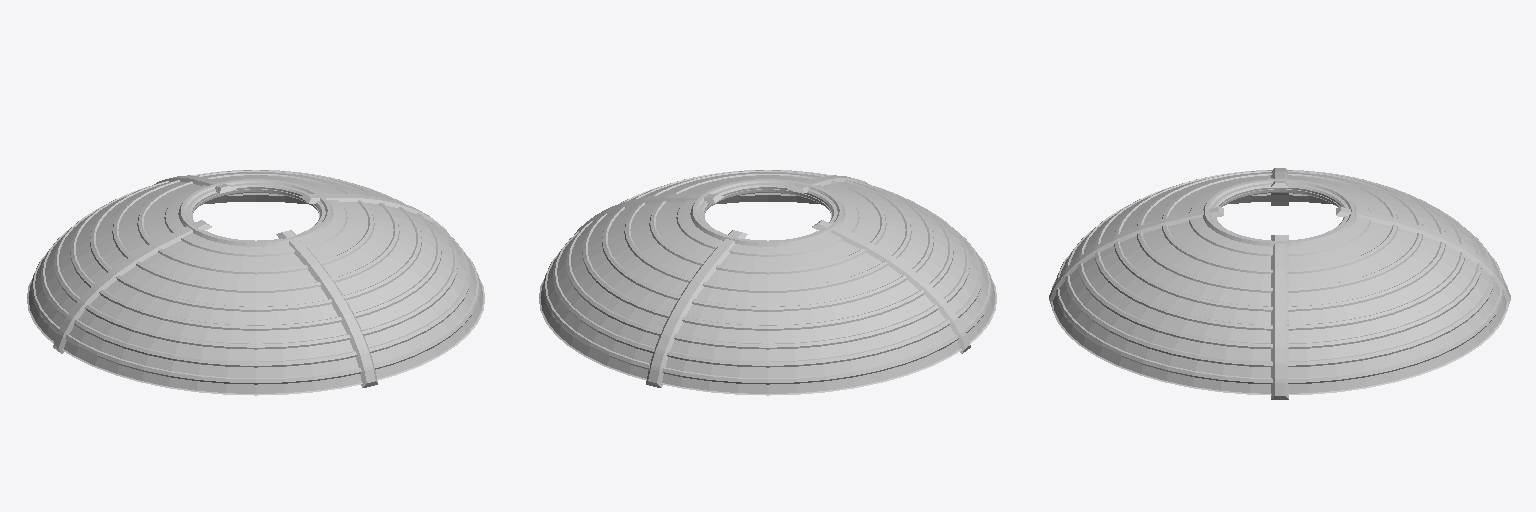
Rendered from high_development_dome.obj.
3 renders of one model, left to right at view 1: azimuth 30°, elevation 25°; view 2: azimuth 150°, elevation 25°; view 3: azimuth 270°, elevation 25°, orthographic.
Visible parts, largest first — view 1: mesh; view 2: mesh; view 3: mesh.
Boxes of the visible parts, <box> form: mesh: <box>27,170,484,395</box>; mesh: <box>539,170,996,395</box>; mesh: <box>1049,168,1510,399</box>.
Size of the model in its own units: 2444 by 549 by 2444.